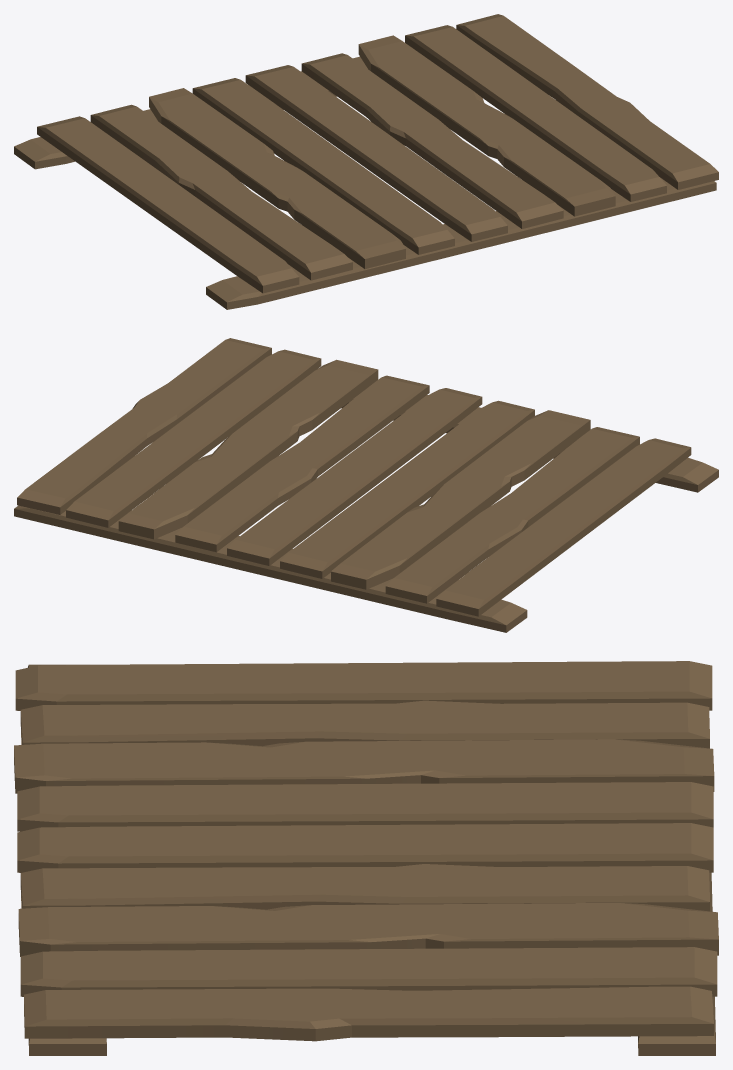
Rendered from PierPlatform2.fbx.
The picture shows the model from 3 angles, top to bottom: view 1: azimuth 30°, elevation 25°; view 2: azimuth 150°, elevation 25°; view 3: azimuth 270°, elevation 25°; orthographic projection. The views are drawn at different scales.
Visible parts, largest first — view 1: Strut.011; view 2: Strut.011; view 3: Strut.011.
Part boxes in pixels (left/top/right/bottom): Strut.011: left=14, top=14, right=718, bottom=309; Strut.011: left=14, top=338, right=718, bottom=632; Strut.011: left=14, top=661, right=718, bottom=1055.
Bounding box in the file's own units: 1056 × 47.1 × 822.
